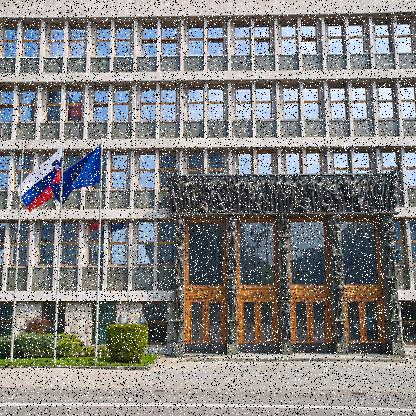si: (17, 143, 62, 218)
